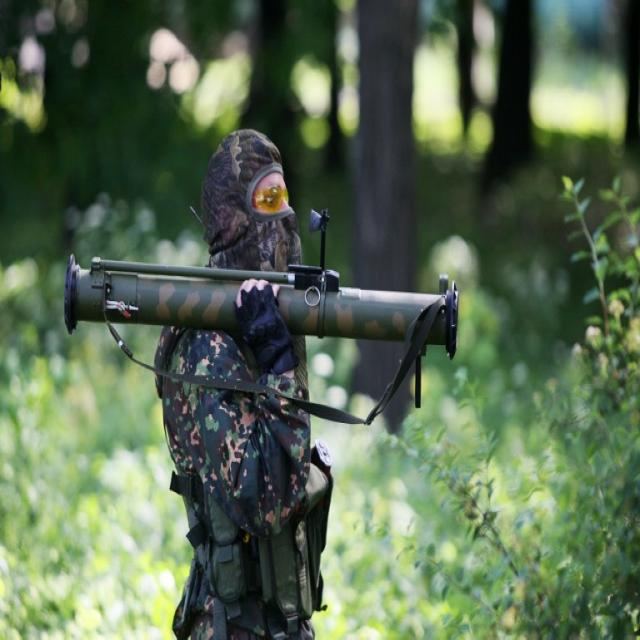bazooka: (44, 226, 481, 441)
